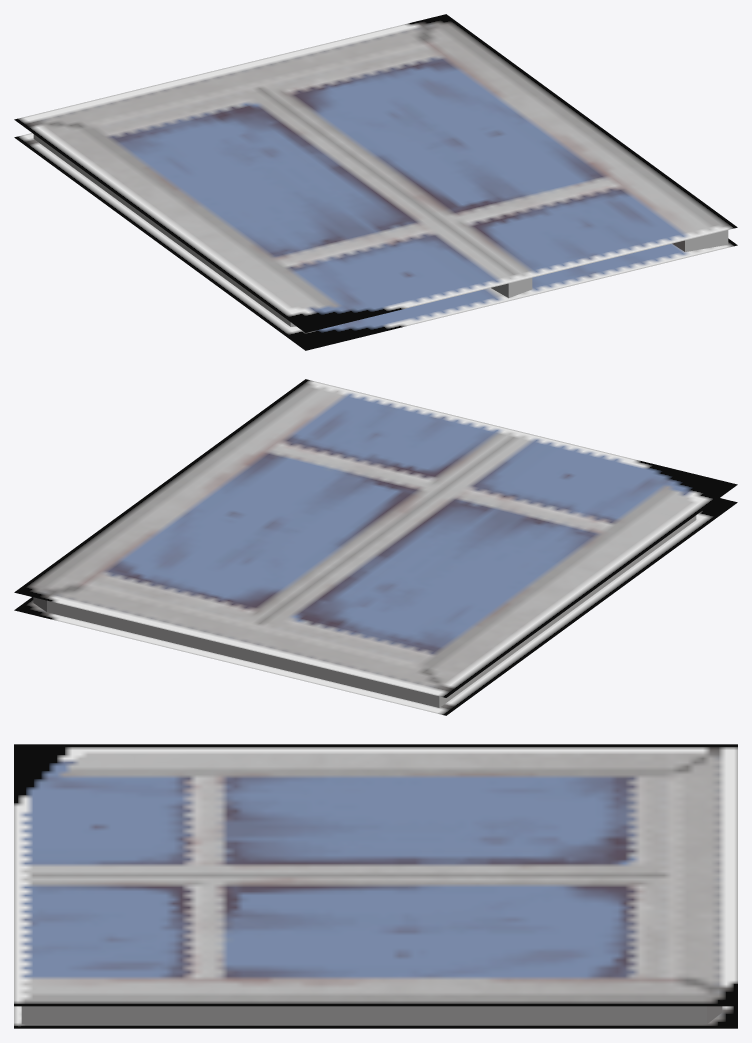
File: pz_native_location_community_church_small_01_121_frame.obj
3 renders of one model, top to bottom at view 1: azimuth 30°, elevation 25°; view 2: azimuth 150°, elevation 25°; view 3: azimuth 270°, elevation 25°, orthographic. The views are drawn at different scales.
Parts seen in each view (by area): view 1: pz_native_location_community_church_small_01_121_frame; view 2: pz_native_location_community_church_small_01_121_frame; view 3: pz_native_location_community_church_small_01_121_frame.
Part boxes in pixels (x1,y1,x2,y2): pz_native_location_community_church_small_01_121_frame: (14, 14, 737, 350); pz_native_location_community_church_small_01_121_frame: (14, 379, 737, 715); pz_native_location_community_church_small_01_121_frame: (14, 744, 737, 1028).
Bounding box in the file's own units: 1.02 × 0.04 × 1.19.
1 material, 1 textured.
